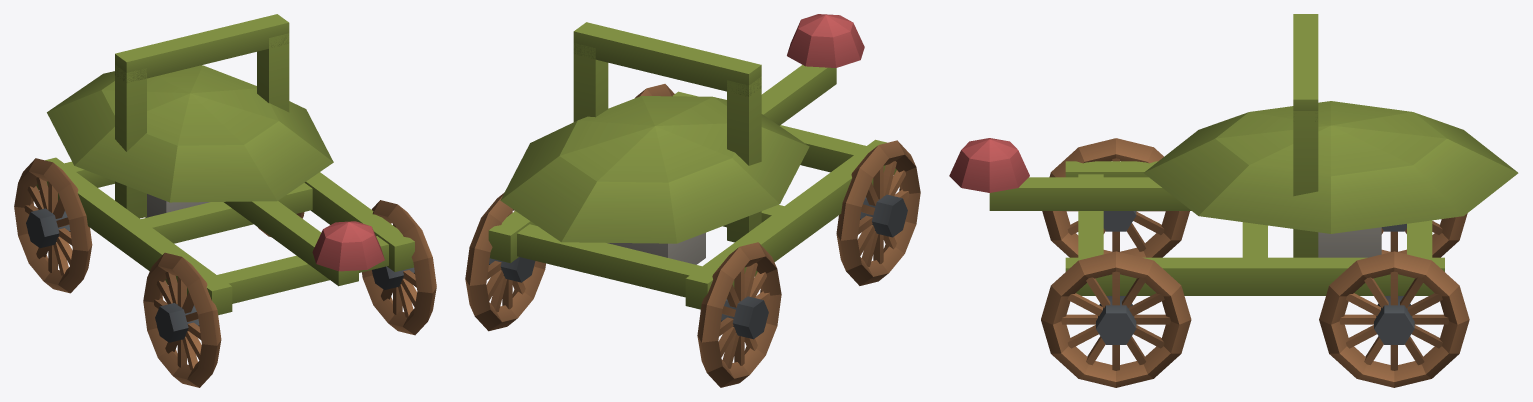
File: F_CATAPU.glb
3 views of the same model, side by side, from view 1: azimuth 30°, elevation 25°; view 2: azimuth 150°, elevation 25°; view 3: azimuth 270°, elevation 25° (orthographic). The views are drawn at different scales.
Visible parts, largest first — view 1: Body, Wheel_0, Wheel_2, Arm, Wheel_1; view 2: Body, Wheel_2, Wheel_0, Arm, Wheel_3; view 3: Body, Wheel_3, Wheel_1, Arm, Wheel_0, Wheel_2.
Boxes of the visible parts, x1,y1,x2,y2 form: Body: [36, 14, 414, 314]; Wheel_0: [143, 252, 221, 387]; Wheel_2: [14, 158, 92, 293]; Arm: [145, 194, 384, 286]; Wheel_1: [362, 200, 436, 335]; Body: [488, 22, 896, 309]; Wheel_2: [697, 242, 781, 387]; Wheel_0: [836, 140, 920, 285]; Arm: [607, 14, 864, 264]; Wheel_3: [465, 192, 545, 331]; Body: [1065, 14, 1518, 295]; Wheel_3: [1319, 251, 1469, 387]; Wheel_1: [1041, 251, 1191, 387]; Arm: [949, 138, 1381, 257]; Wheel_0: [1042, 138, 1189, 257]; Wheel_2: [1381, 213, 1467, 257].
Size of the model in its own units: 1.24 by 1.2 by 2.25.
Materials: 1 (1 with a texture image).
